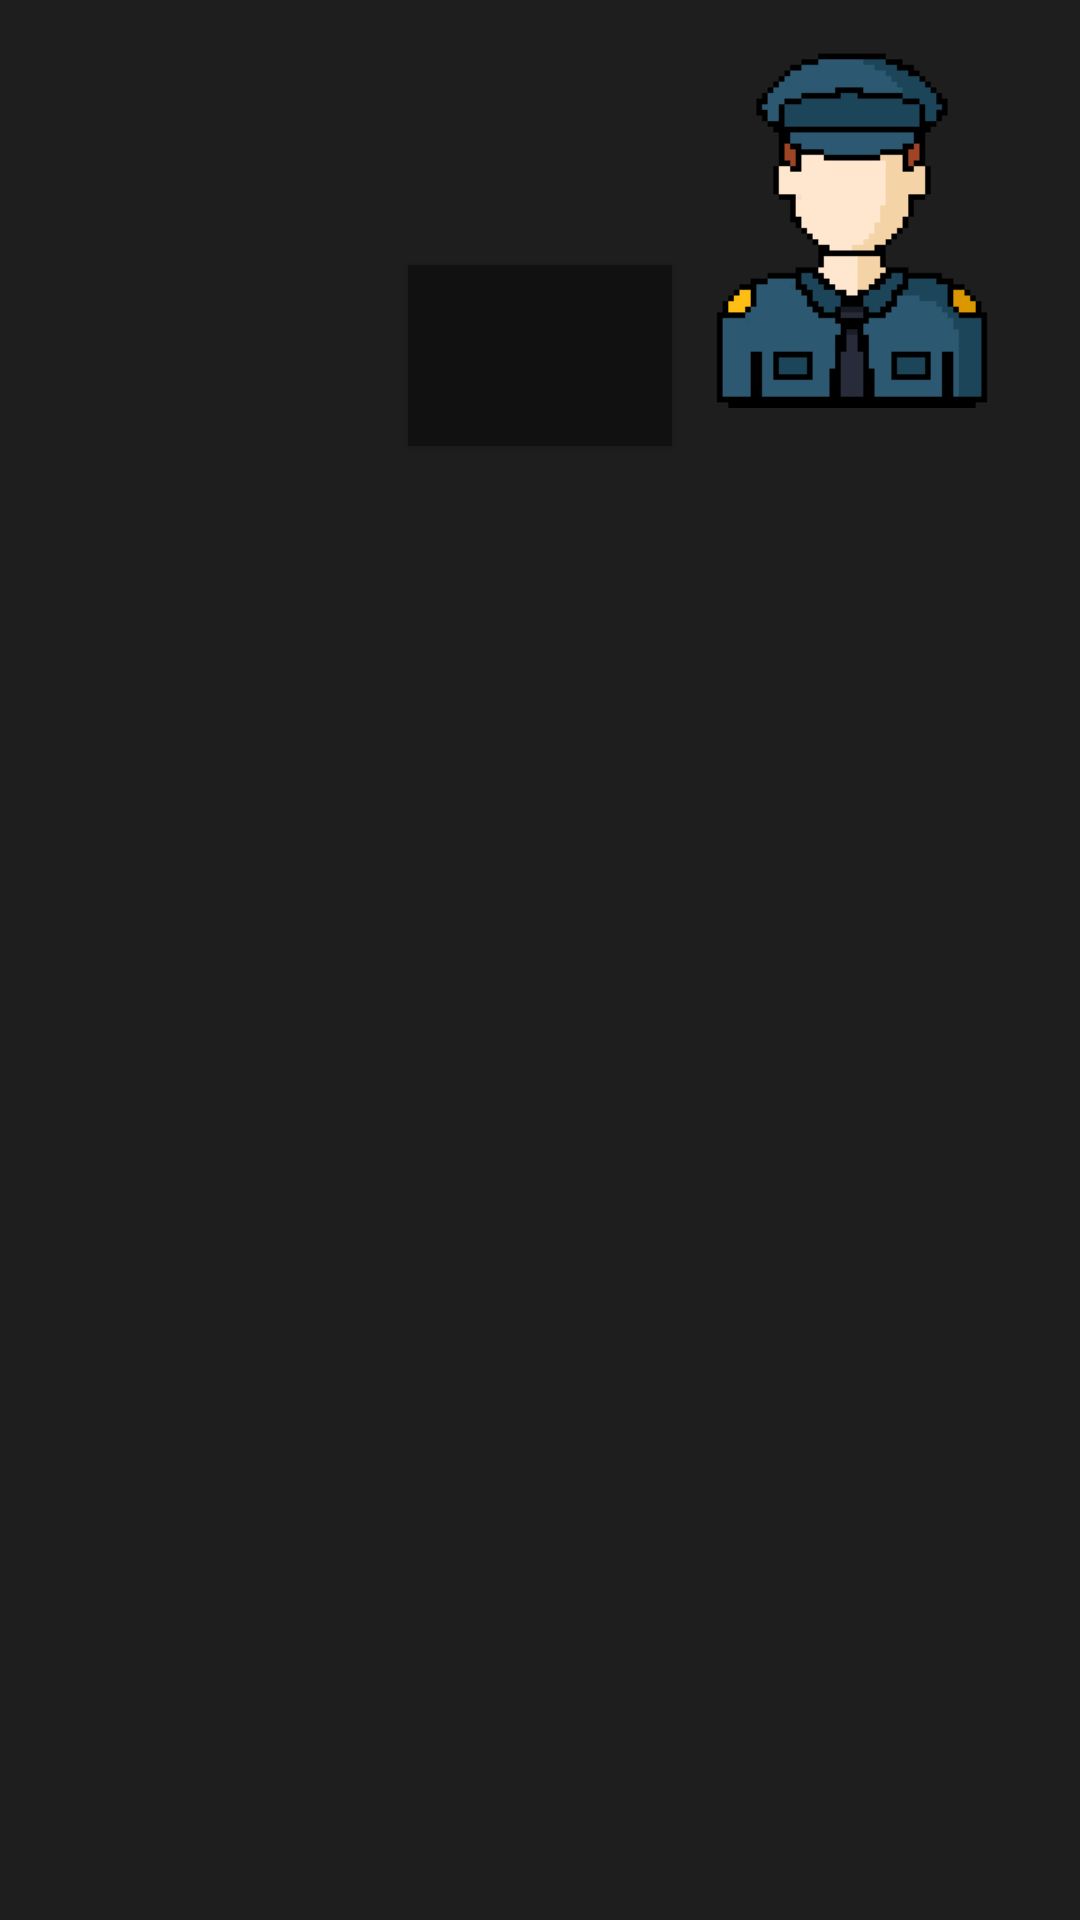

Icon bounding boxes for this 1080x1920 phone screenshot, format (x1, y1, x2, y2):
policeman: (717, 54, 987, 408)
